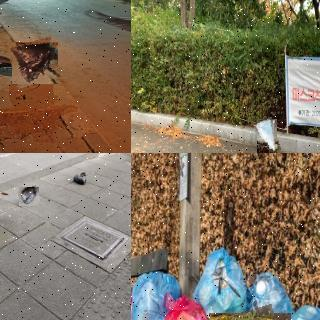Garbage: (192, 250, 248, 320), (131, 273, 183, 320), (10, 39, 60, 87), (247, 271, 294, 320), (162, 293, 221, 320), (254, 118, 279, 153), (18, 186, 40, 207), (73, 170, 88, 185)
